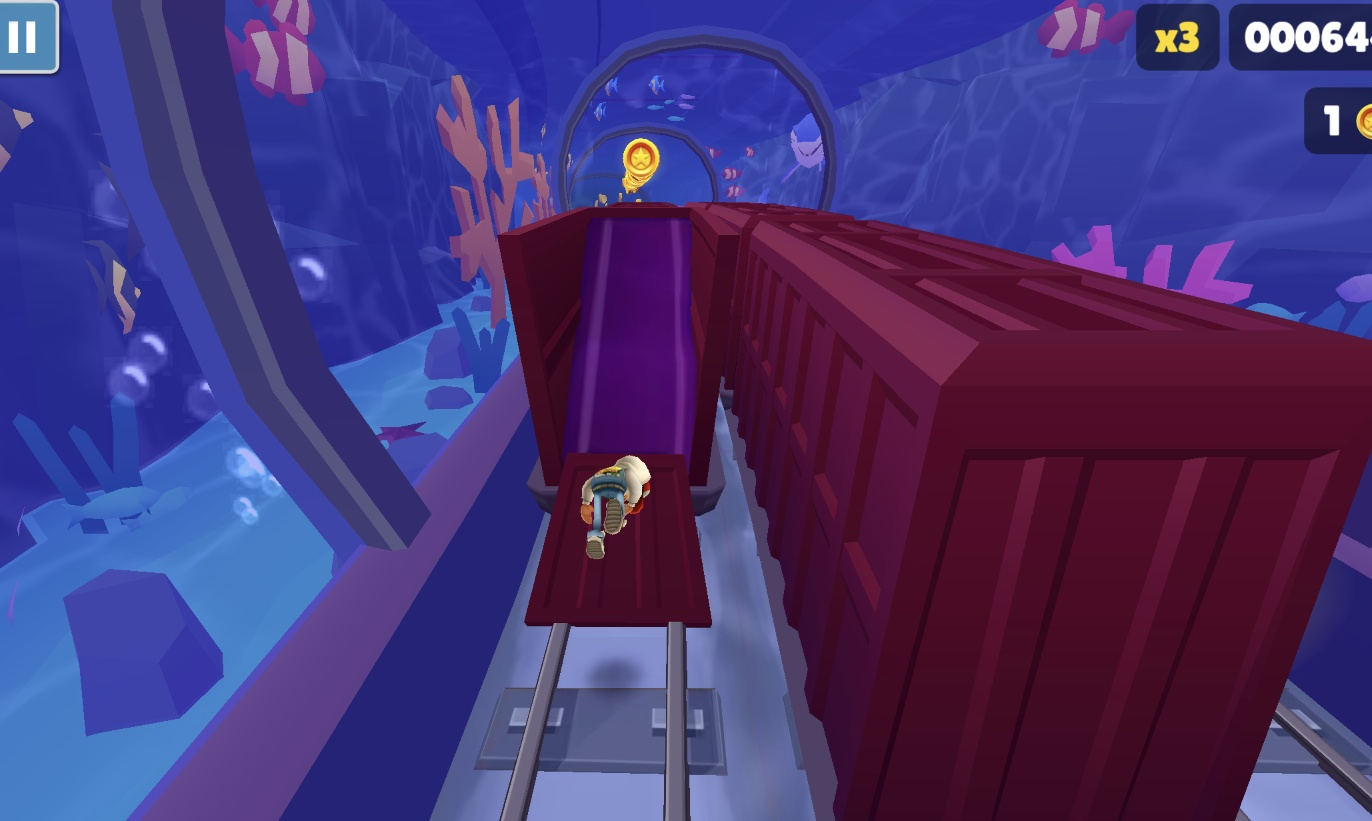train: (683, 203, 1371, 821), (505, 201, 738, 631)
